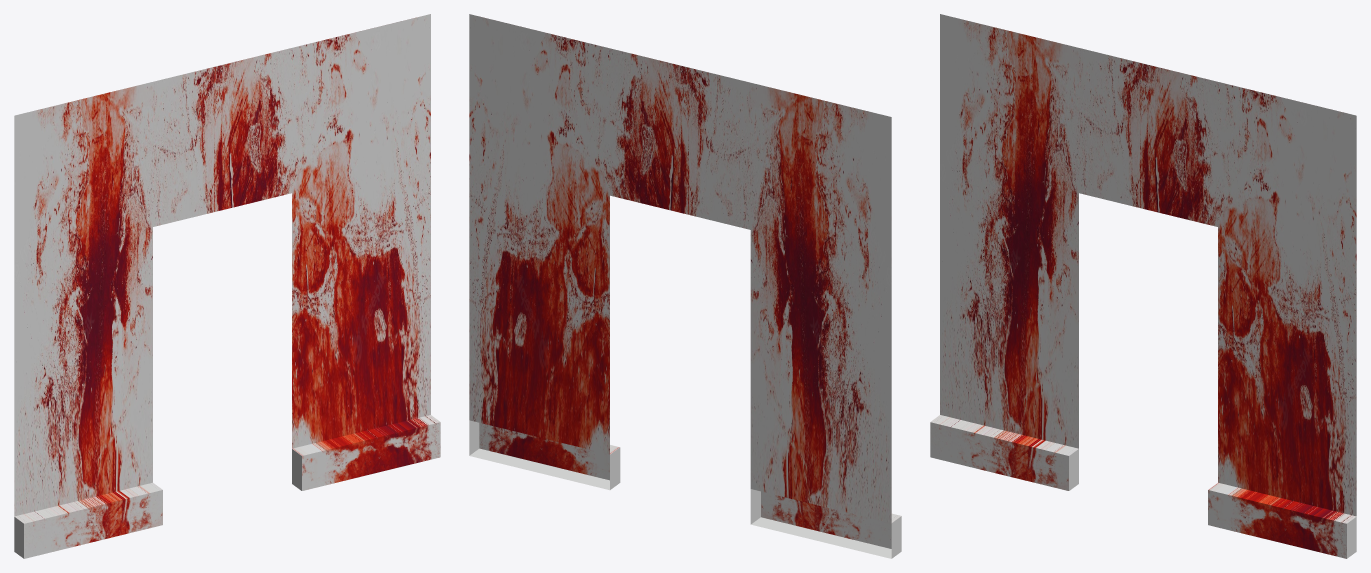
Rendered from Marco_16.fbx.
3 views of the same model, side by side, from view 1: azimuth 30°, elevation 25°; view 2: azimuth 150°, elevation 25°; view 3: azimuth 330°, elevation 25° (orthographic).
Visible parts, largest first — view 1: Plane.017; view 2: Plane.017; view 3: Plane.017.
Part boxes in pixels (bbox=[...]): Plane.017: bbox=[14, 14, 440, 558]; Plane.017: bbox=[469, 14, 901, 558]; Plane.017: bbox=[930, 14, 1356, 558].
Size of the model in its own units: 600 by 600 by 24.87.
